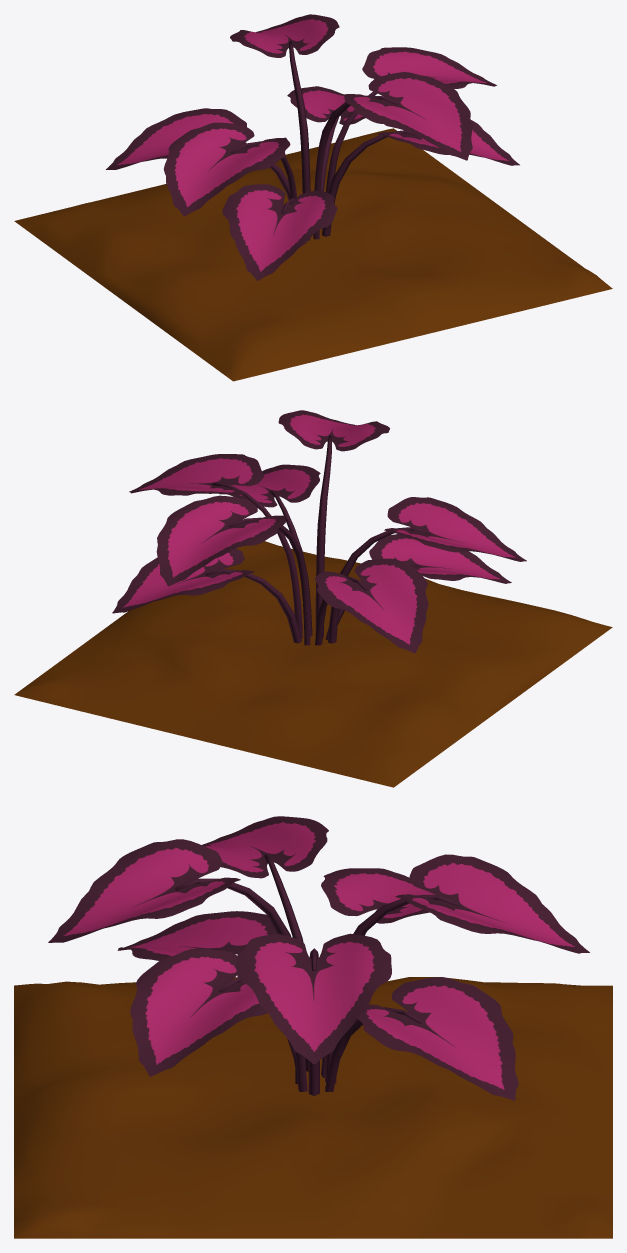
Rendered from begonia-rex-p2-leaf.glb.
3 views of the same model, one above another, from view 1: azimuth 30°, elevation 25°; view 2: azimuth 150°, elevation 25°; view 3: azimuth 270°, elevation 25° (orthographic). The views are drawn at different scales.
Parts seen in each view (by area): view 1: 2_nft_out_of_bloom; view 2: 2_nft_out_of_bloom; view 3: 2_nft_out_of_bloom.
Boxes of the visible parts, bbox=[...] form: 2_nft_out_of_bloom: bbox=[14, 14, 612, 381]; 2_nft_out_of_bloom: bbox=[14, 410, 612, 787]; 2_nft_out_of_bloom: bbox=[14, 816, 612, 1238].
Bounding box in the file's own units: 0.7 × 0.3382 × 0.7.
Materials: 3 (1 with a texture image).
